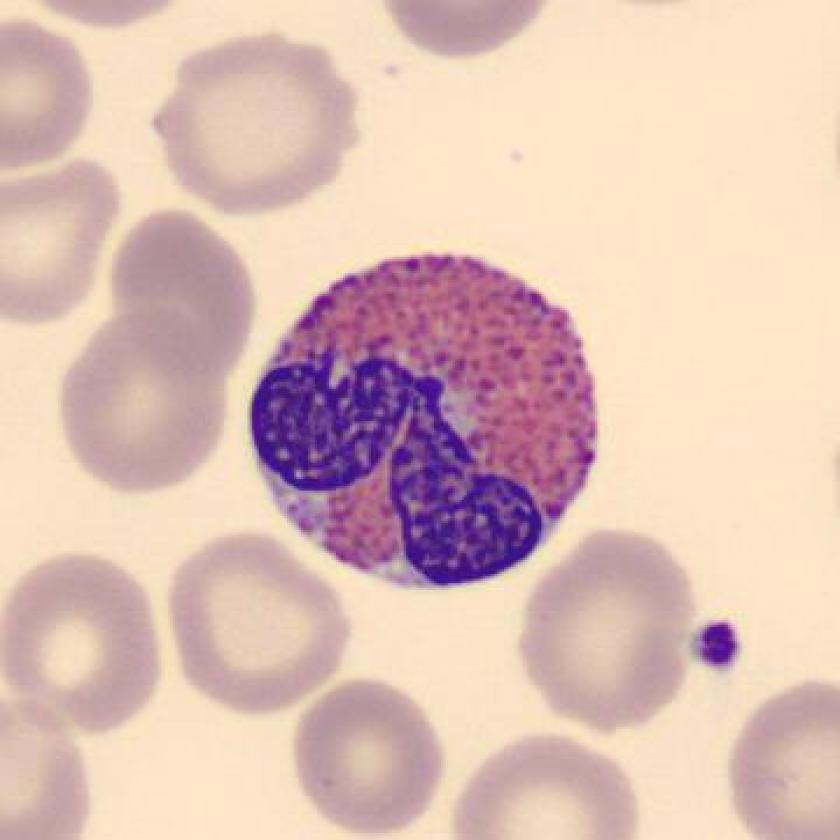eosinophil: (239, 230, 615, 603)
